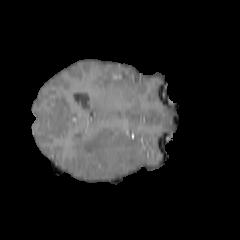glioma: (71, 127, 147, 179)
